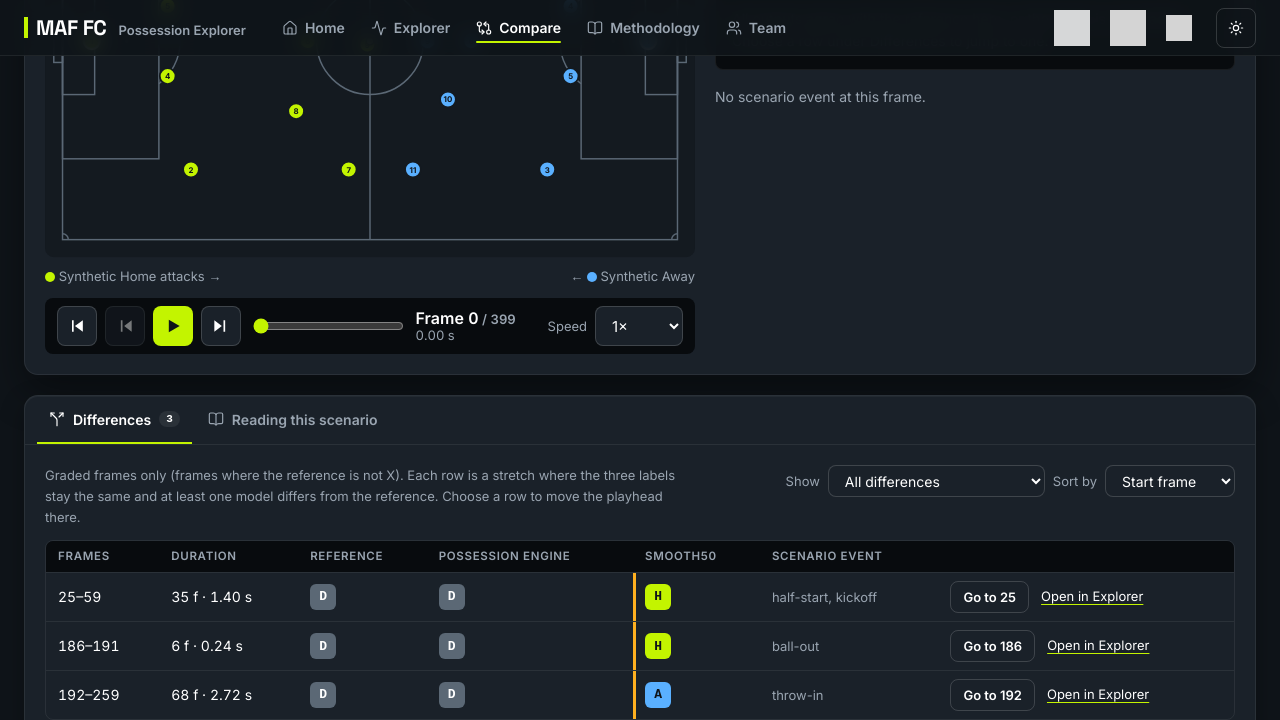
Test: Compare page › shows the compare timeline with difference tracks and the reading guide
This screenshot has width=1280, height=720.
(page scrolled)
Check: the element with test id "readout" is shown, box [416, 308, 516, 343]
What coordinates should you click on to do the following:
click the tab "Reading this scenario"
I would click on:
 (293, 420)
Its box is [196, 396, 390, 444].
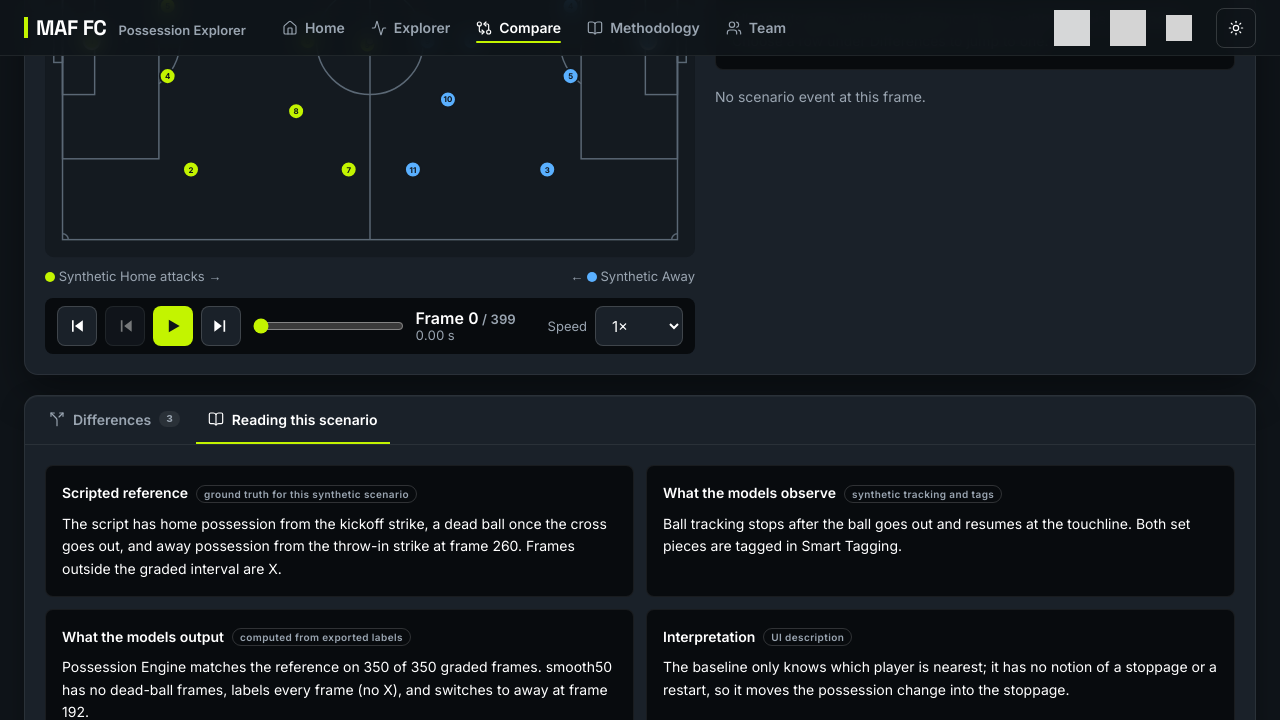
Check: the text "Scripted reference" is shown, box [62, 484, 188, 501]
Check: the text "UI description" is shown, box [763, 628, 852, 646]
